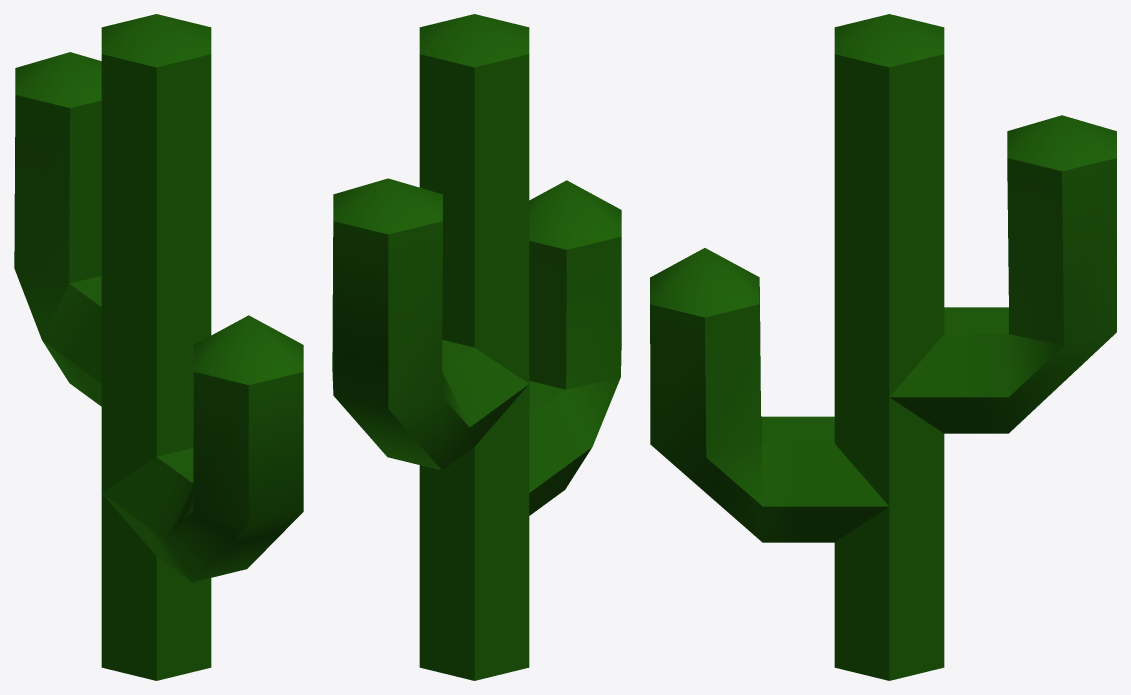
Rendered from cactus-01.fbx.
The picture shows the model from 3 angles, left to right: view 1: azimuth 30°, elevation 25°; view 2: azimuth 150°, elevation 25°; view 3: azimuth 270°, elevation 25°; orthographic projection.
Parts seen in each view (by area): view 1: pCylinder39, pCylinder40, pCylinder41; view 2: pCylinder39, pCylinder41, pCylinder40; view 3: pCylinder39, pCylinder41, pCylinder40.
Part boxes in pixels (box(x1,y1,x2,y2)): pCylinder39: box(101, 14, 211, 680); pCylinder40: box(102, 315, 303, 582); pCylinder41: box(14, 52, 101, 406); pCylinder39: box(419, 14, 529, 680); pCylinder41: box(332, 178, 528, 470); pCylinder40: box(529, 180, 621, 515); pCylinder39: box(834, 14, 944, 680); pCylinder41: box(890, 115, 1116, 433); pCylinder40: box(650, 248, 888, 542).
Bounding box in the file's own units: 0.6 × 3.34 × 2.21.
